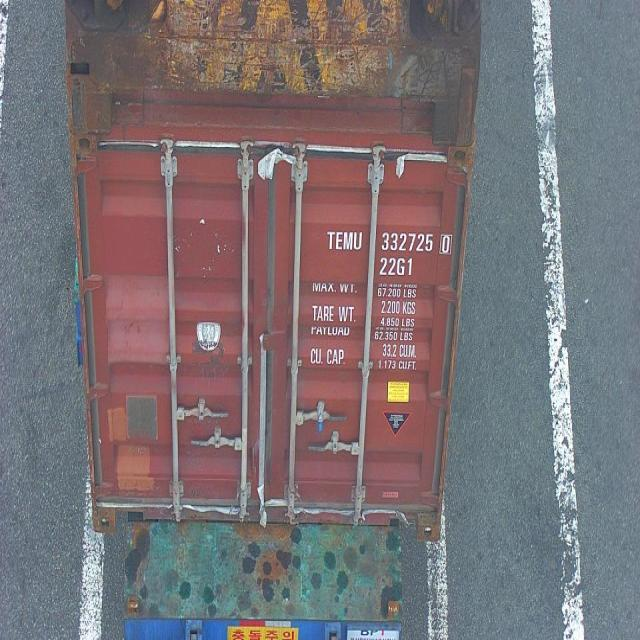ISO: (379, 255, 416, 275)
container_number: (328, 227, 453, 254)
